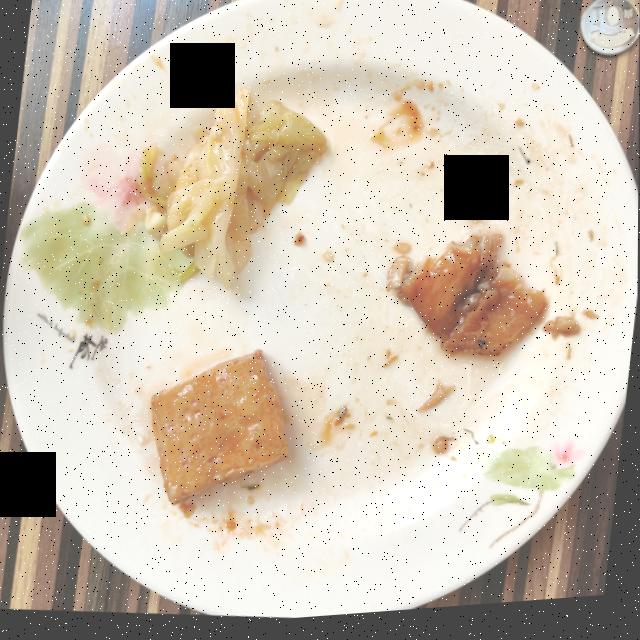Kabayaki sea bream fillet: (397, 240, 547, 363)
cabbage: (137, 90, 326, 290)
coin: (580, 3, 640, 63)
creamy tofu: (151, 353, 290, 506)
